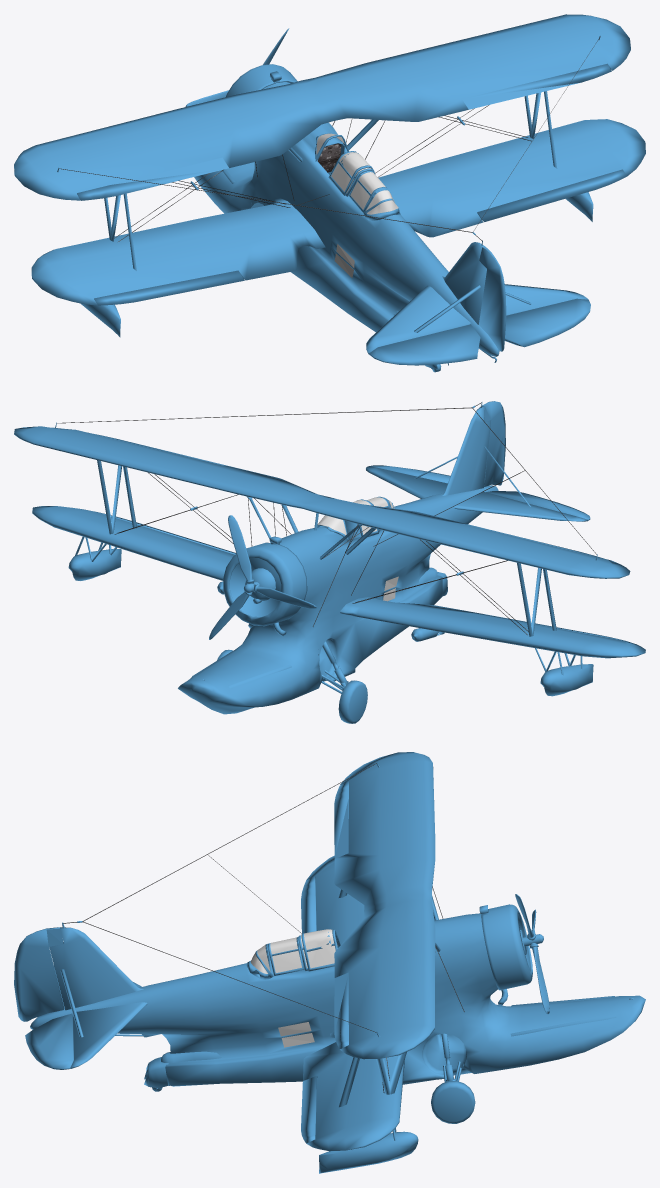
File: grummanduck.FBX
3 renders of one model, top to bottom at view 1: azimuth 30°, elevation 25°; view 2: azimuth 150°, elevation 25°; view 3: azimuth 270°, elevation 25°, orthographic. The views are drawn at different scales.
Visible parts, largest first — view 1: Ali, fusoliera, Vetro, Cavi; view 2: fusoliera, Ali, Cavi, Vetro; view 3: fusoliera, Ali, Vetro, Cavi.
Part boxes in pixels (<box>): Ali: <box>14,14,645,305</box>; fusoliera: <box>57,28,600,372</box>; Vetro: <box>316,133,398,277</box>; Cavi: <box>59,38,599,241</box>; fusoliera: <box>55,401,597,723</box>; Ali: <box>14,426,645,658</box>; Cavi: <box>57,402,596,634</box>; Vetro: <box>317,497,398,601</box>; fusoliera: <box>14,762,645,1173</box>; Ali: <box>301,752,435,1151</box>; Vetro: <box>250,929,337,1047</box>; Cavi: <box>63,763,464,1092</box>.
Bounding box in the file's own units: 11.76 × 3.84 × 10.42.
